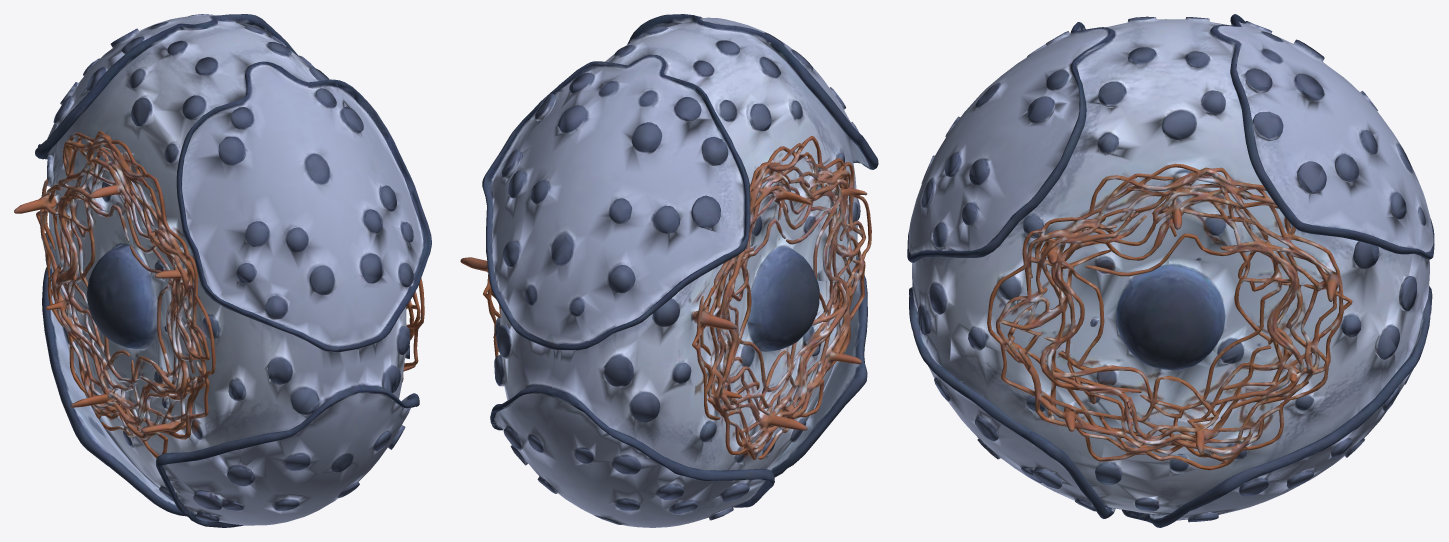
The picture shows the model from 3 angles, left to right: view 1: azimuth 30°, elevation 25°; view 2: azimuth 150°, elevation 25°; view 3: azimuth 270°, elevation 25°; orthographic projection. The views are drawn at different scales.
Parts seen in each view (by area): view 1: tripo_node_e028182f-af70-4f8c-af38-817fc1e4143a; view 2: tripo_node_e028182f-af70-4f8c-af38-817fc1e4143a; view 3: tripo_node_e028182f-af70-4f8c-af38-817fc1e4143a.
Part boxes in pixels (x1=…): tripo_node_e028182f-af70-4f8c-af38-817fc1e4143a: x1=14, y1=14, x2=431, y2=527; tripo_node_e028182f-af70-4f8c-af38-817fc1e4143a: x1=460, y1=14, x2=878, y2=527; tripo_node_e028182f-af70-4f8c-af38-817fc1e4143a: x1=907, y1=14, x2=1434, y2=527.
Bounding box in the file's own units: 0.6441 × 0.9998 × 0.9915.
Materials: 1 (1 with a texture image).
